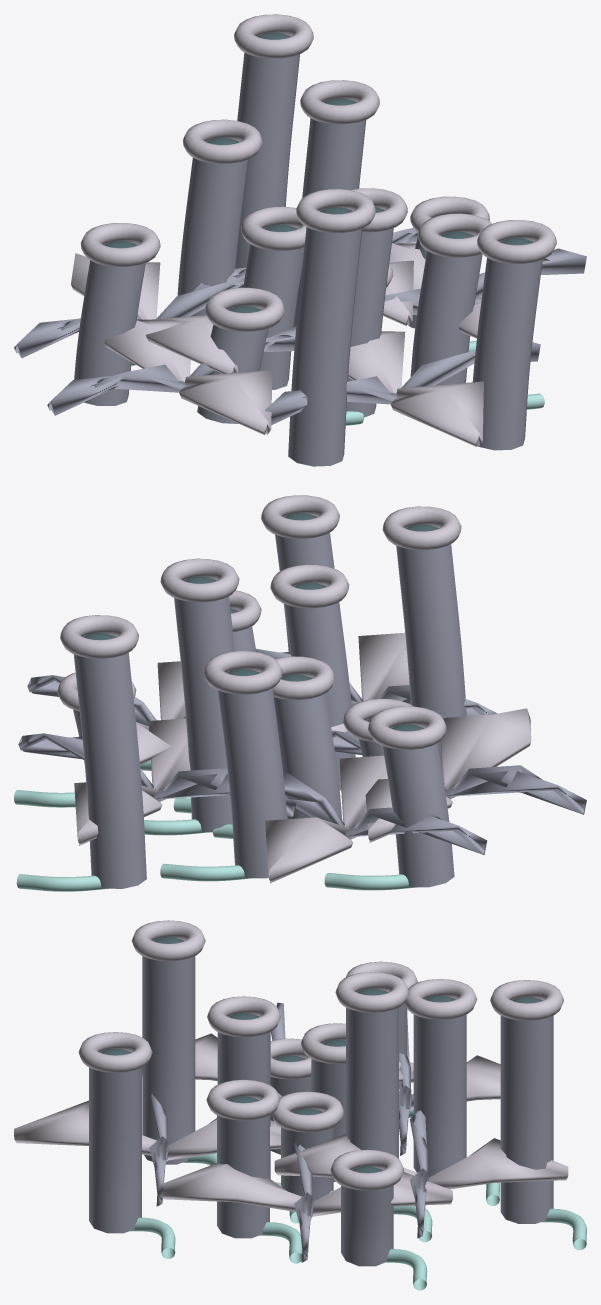
Rendered from bio_thermal_colony_15_near.glb.
3 renders of one model, top to bottom at view 1: azimuth 30°, elevation 25°; view 2: azimuth 150°, elevation 25°; view 3: azimuth 270°, elevation 25°, orthographic. The views are drawn at different scales.
Visible parts, largest first — view 1: Chimney biofilm.007, Chimney biofilm.010, Chimney biofilm.011, Chimney biofilm.006, Low buttress leaf.017, Low buttress leaf.009, Chimney biofilm.009, Chimney biofilm.005, Low buttress leaf.005, Chimney biofilm.003, Chimney biofilm.001, Chimney biofilm.002 (+19 smaller); view 2: Chimney biofilm.011, Chimney biofilm.007, Chimney biofilm.006, Chimney biofilm.003, Chimney biofilm.009, Low buttress leaf.005, Low buttress leaf.017, Chimney biofilm.001, Chimney biofilm.002, Low buttress leaf.004, Low buttress leaf.016, Low buttress leaf.013 (+22 smaller); view 3: Chimney biofilm.011, Chimney biofilm.007, Chimney biofilm.010, Chimney biofilm.006, Chimney biofilm.003, Low buttress leaf.001, Low buttress leaf.013, Chimney biofilm.005, Low buttress leaf.009, Chimney biofilm.008, Chimney biofilm.002, Open vent rim.007 (+25 smaller).
Part boxes in pixels (x1,y1,x2,y2): Chimney biofilm.007: [288, 209, 362, 466]; Chimney biofilm.010: [472, 240, 542, 450]; Chimney biofilm.011: [235, 34, 299, 268]; Chimney biofilm.006: [177, 140, 248, 316]; Low buttress leaf.017: [104, 319, 272, 434]; Low buttress leaf.009: [348, 331, 483, 446]; Chimney biofilm.009: [74, 243, 145, 405]; Chimney biofilm.005: [410, 234, 482, 385]; Low buttress leaf.005: [71, 253, 237, 373]; Chimney biofilm.003: [293, 100, 366, 327]; Chimney biofilm.001: [243, 227, 304, 389]; Chimney biofilm.002: [346, 209, 393, 417]; Chimney biofilm.011: [73, 635, 146, 888]; Chimney biofilm.007: [396, 527, 466, 771]; Chimney biofilm.006: [217, 671, 287, 878]; Chimney biofilm.003: [174, 579, 234, 832]; Chimney biofilm.009: [382, 727, 454, 887]; Low buttress leaf.005: [265, 755, 387, 883]; Low buttress leaf.017: [365, 708, 531, 842]; Chimney biofilm.001: [273, 677, 342, 819]; Chimney biofilm.002: [284, 585, 355, 790]; Low buttress leaf.004: [283, 773, 487, 854]; Low buttress leaf.016: [332, 730, 586, 814]; Low buttress leaf.013: [74, 718, 190, 845]; Chimney biofilm.011: [500, 999, 553, 1223]; Chimney biofilm.007: [142, 940, 195, 1164]; Chimney biofilm.010: [89, 1051, 141, 1233]; Chimney biofilm.006: [413, 998, 466, 1177]; Chimney biofilm.003: [346, 991, 398, 1158]; Low buttress leaf.001: [163, 1163, 452, 1217]; Low buttress leaf.013: [274, 1134, 568, 1189]; Chimney biofilm.005: [217, 1099, 269, 1238]; Low buttress leaf.009: [14, 1100, 280, 1161]; Chimney biofilm.008: [341, 1169, 393, 1266]; Chimney biofilm.002: [217, 1015, 270, 1178]; Open vent rim.007: [131, 920, 205, 961].
Size of the model in its own units: 2.22 by 0.9895 by 2.16.
